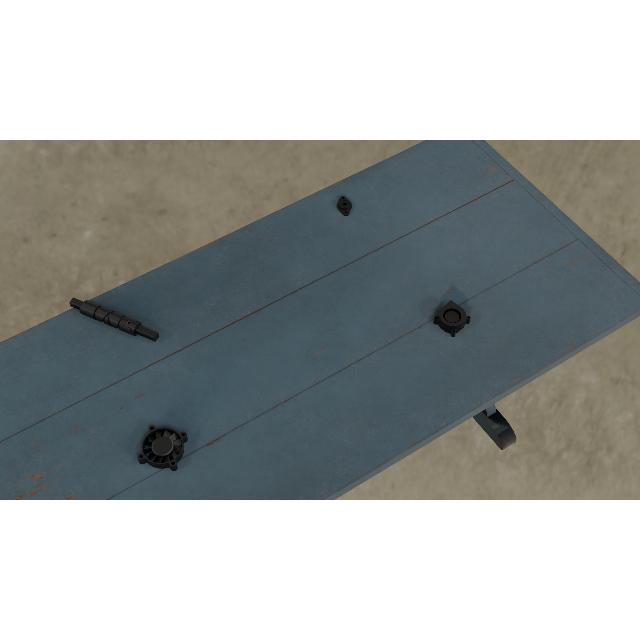Pieza1: (66, 292, 162, 348)
Pieza2: (336, 194, 354, 216)
Pieza3: (432, 300, 472, 338)
Pieza4: (136, 424, 190, 472)
